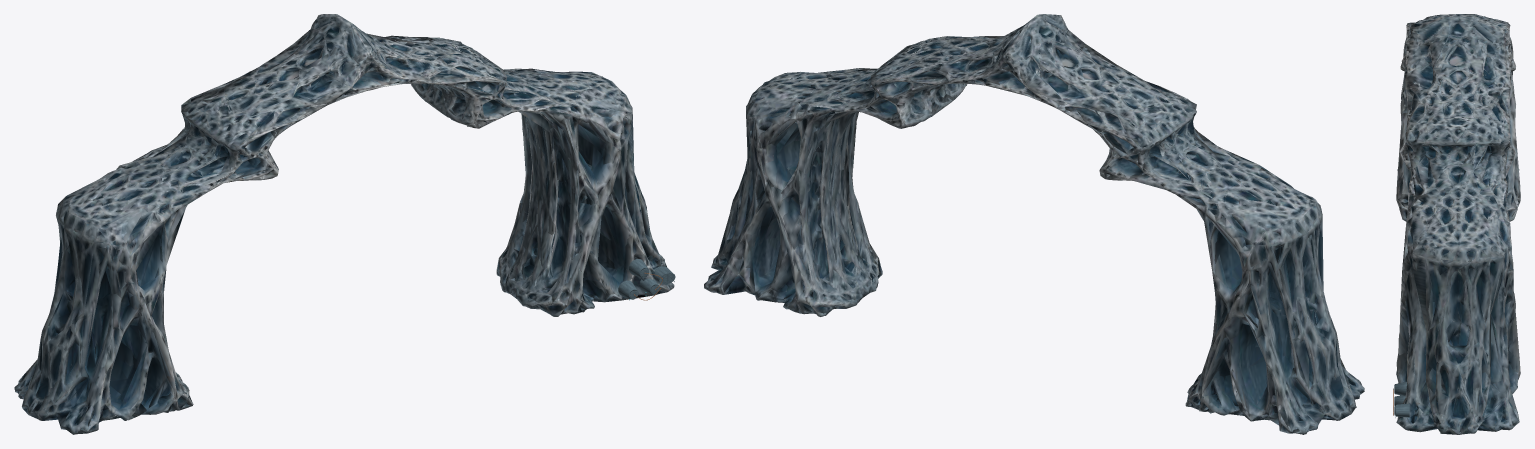
File: terrasa-vrat.glb
The picture shows the model from 3 angles, left to right: view 1: azimuth 30°, elevation 25°; view 2: azimuth 150°, elevation 25°; view 3: azimuth 270°, elevation 25°; orthographic projection. The views are drawn at different scales.
Parts seen in each view (by area): view 1: LOD2_Mineral, LOD0_Mineral, LOD1_Mineral; view 2: LOD0_Mineral, LOD2_Mineral, LOD1_Mineral; view 3: LOD2_Mineral, LOD0_Mineral, LOD1_Mineral.
Part boxes in pixels (box(x1,y1,x2,y2)): LOD2_Mineral: box(16, 14, 671, 434); LOD0_Mineral: box(14, 16, 675, 434); LOD1_Mineral: box(19, 16, 671, 434); LOD0_Mineral: box(704, 16, 1364, 434); LOD2_Mineral: box(708, 14, 1364, 434); LOD1_Mineral: box(708, 17, 1359, 433); LOD2_Mineral: box(1396, 14, 1520, 434); LOD0_Mineral: box(1394, 14, 1520, 434); LOD1_Mineral: box(1396, 14, 1520, 432).
Size of the model in its own units: 120 by 58 by 23.54.
3 materials, 1 textured.
